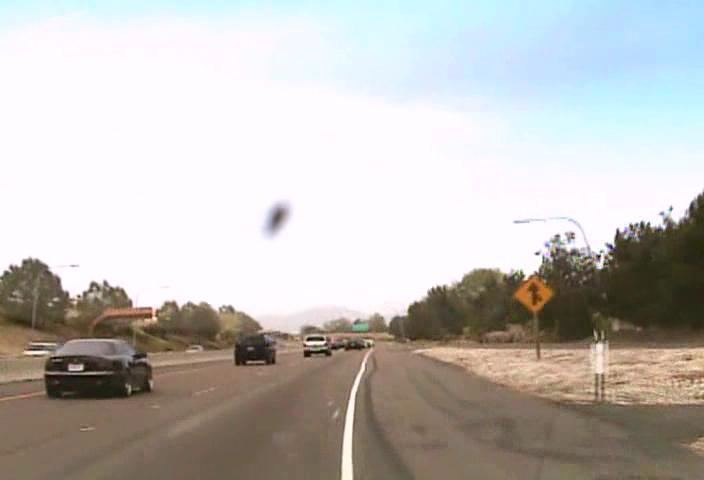merge: (513, 274, 554, 312)
